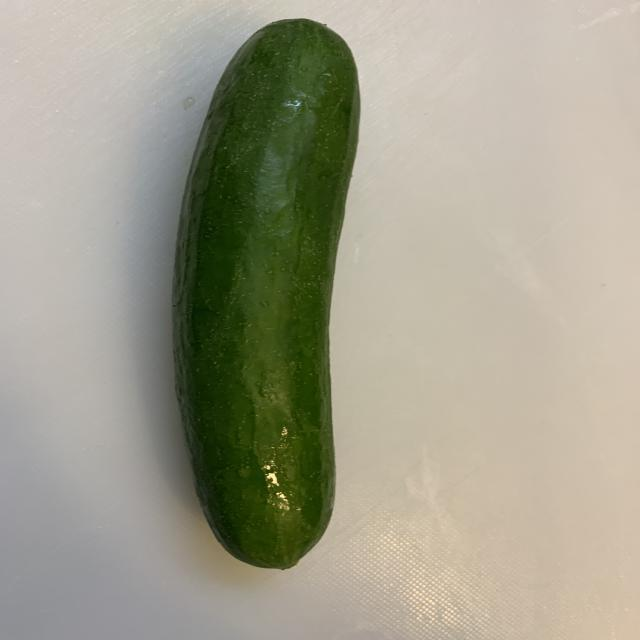Cucumber: (171, 22, 358, 571)
